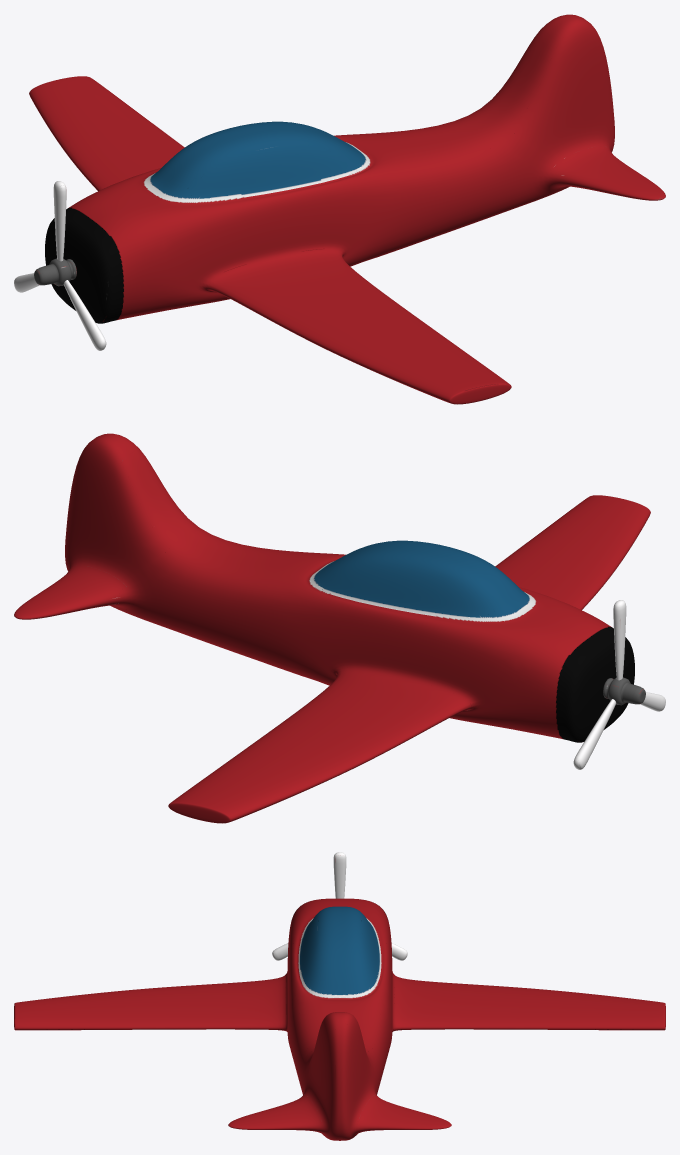
The model's file is aeroplane.glb.
3 renders of one model, top to bottom at view 1: azimuth 30°, elevation 25°; view 2: azimuth 150°, elevation 25°; view 3: azimuth 270°, elevation 25°, orthographic. The views are drawn at different scales.
Parts seen in each view (by area): view 1: Object_2; view 2: Object_2; view 3: Object_2.
Part boxes in pixels (x1=…): Object_2: x1=14, y1=14, x2=665, y2=404; Object_2: x1=14, y1=433, x2=665, y2=823; Object_2: x1=14, y1=852, x2=665, y2=1140.
Size of the model in its own units: 2.95 by 0.8791 by 3.74.
1 material, 1 textured.
